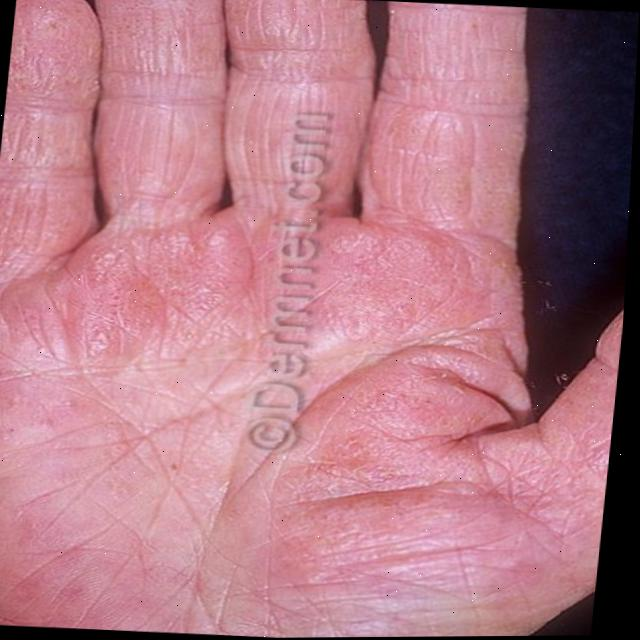Eczema: (0, 0, 501, 380), (254, 438, 600, 627)
